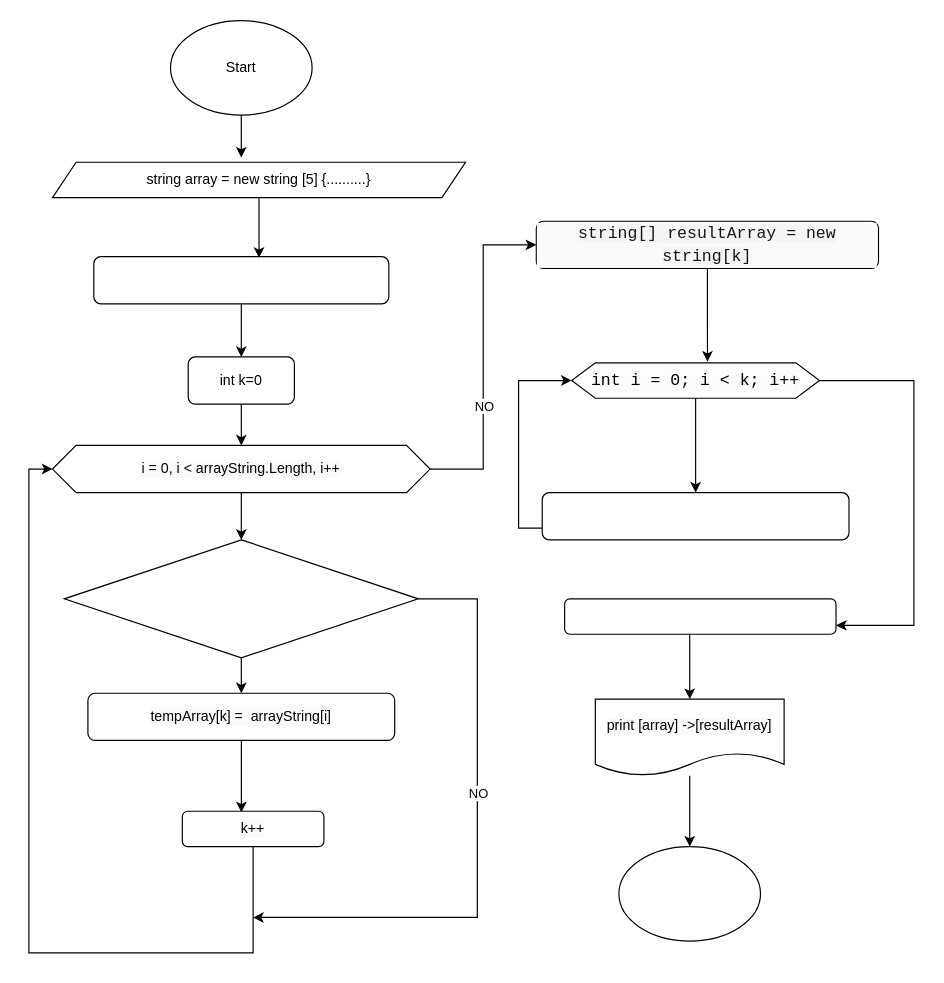
Some shapes in this 944 by 983 pixel diagram are drawn without their labels. The shapes that lost their labels are listed below. From the top down, each one's centre as x and y in pixels, then its label:
the point at 241,279: strinng arrayOutput = array
the point at 695,515: resultArray[i] = tempArray[i]
the point at 240,598: arrayString[i].Length <=3
the point at 699,616: return resultArray
the point at 689,893: Finish
